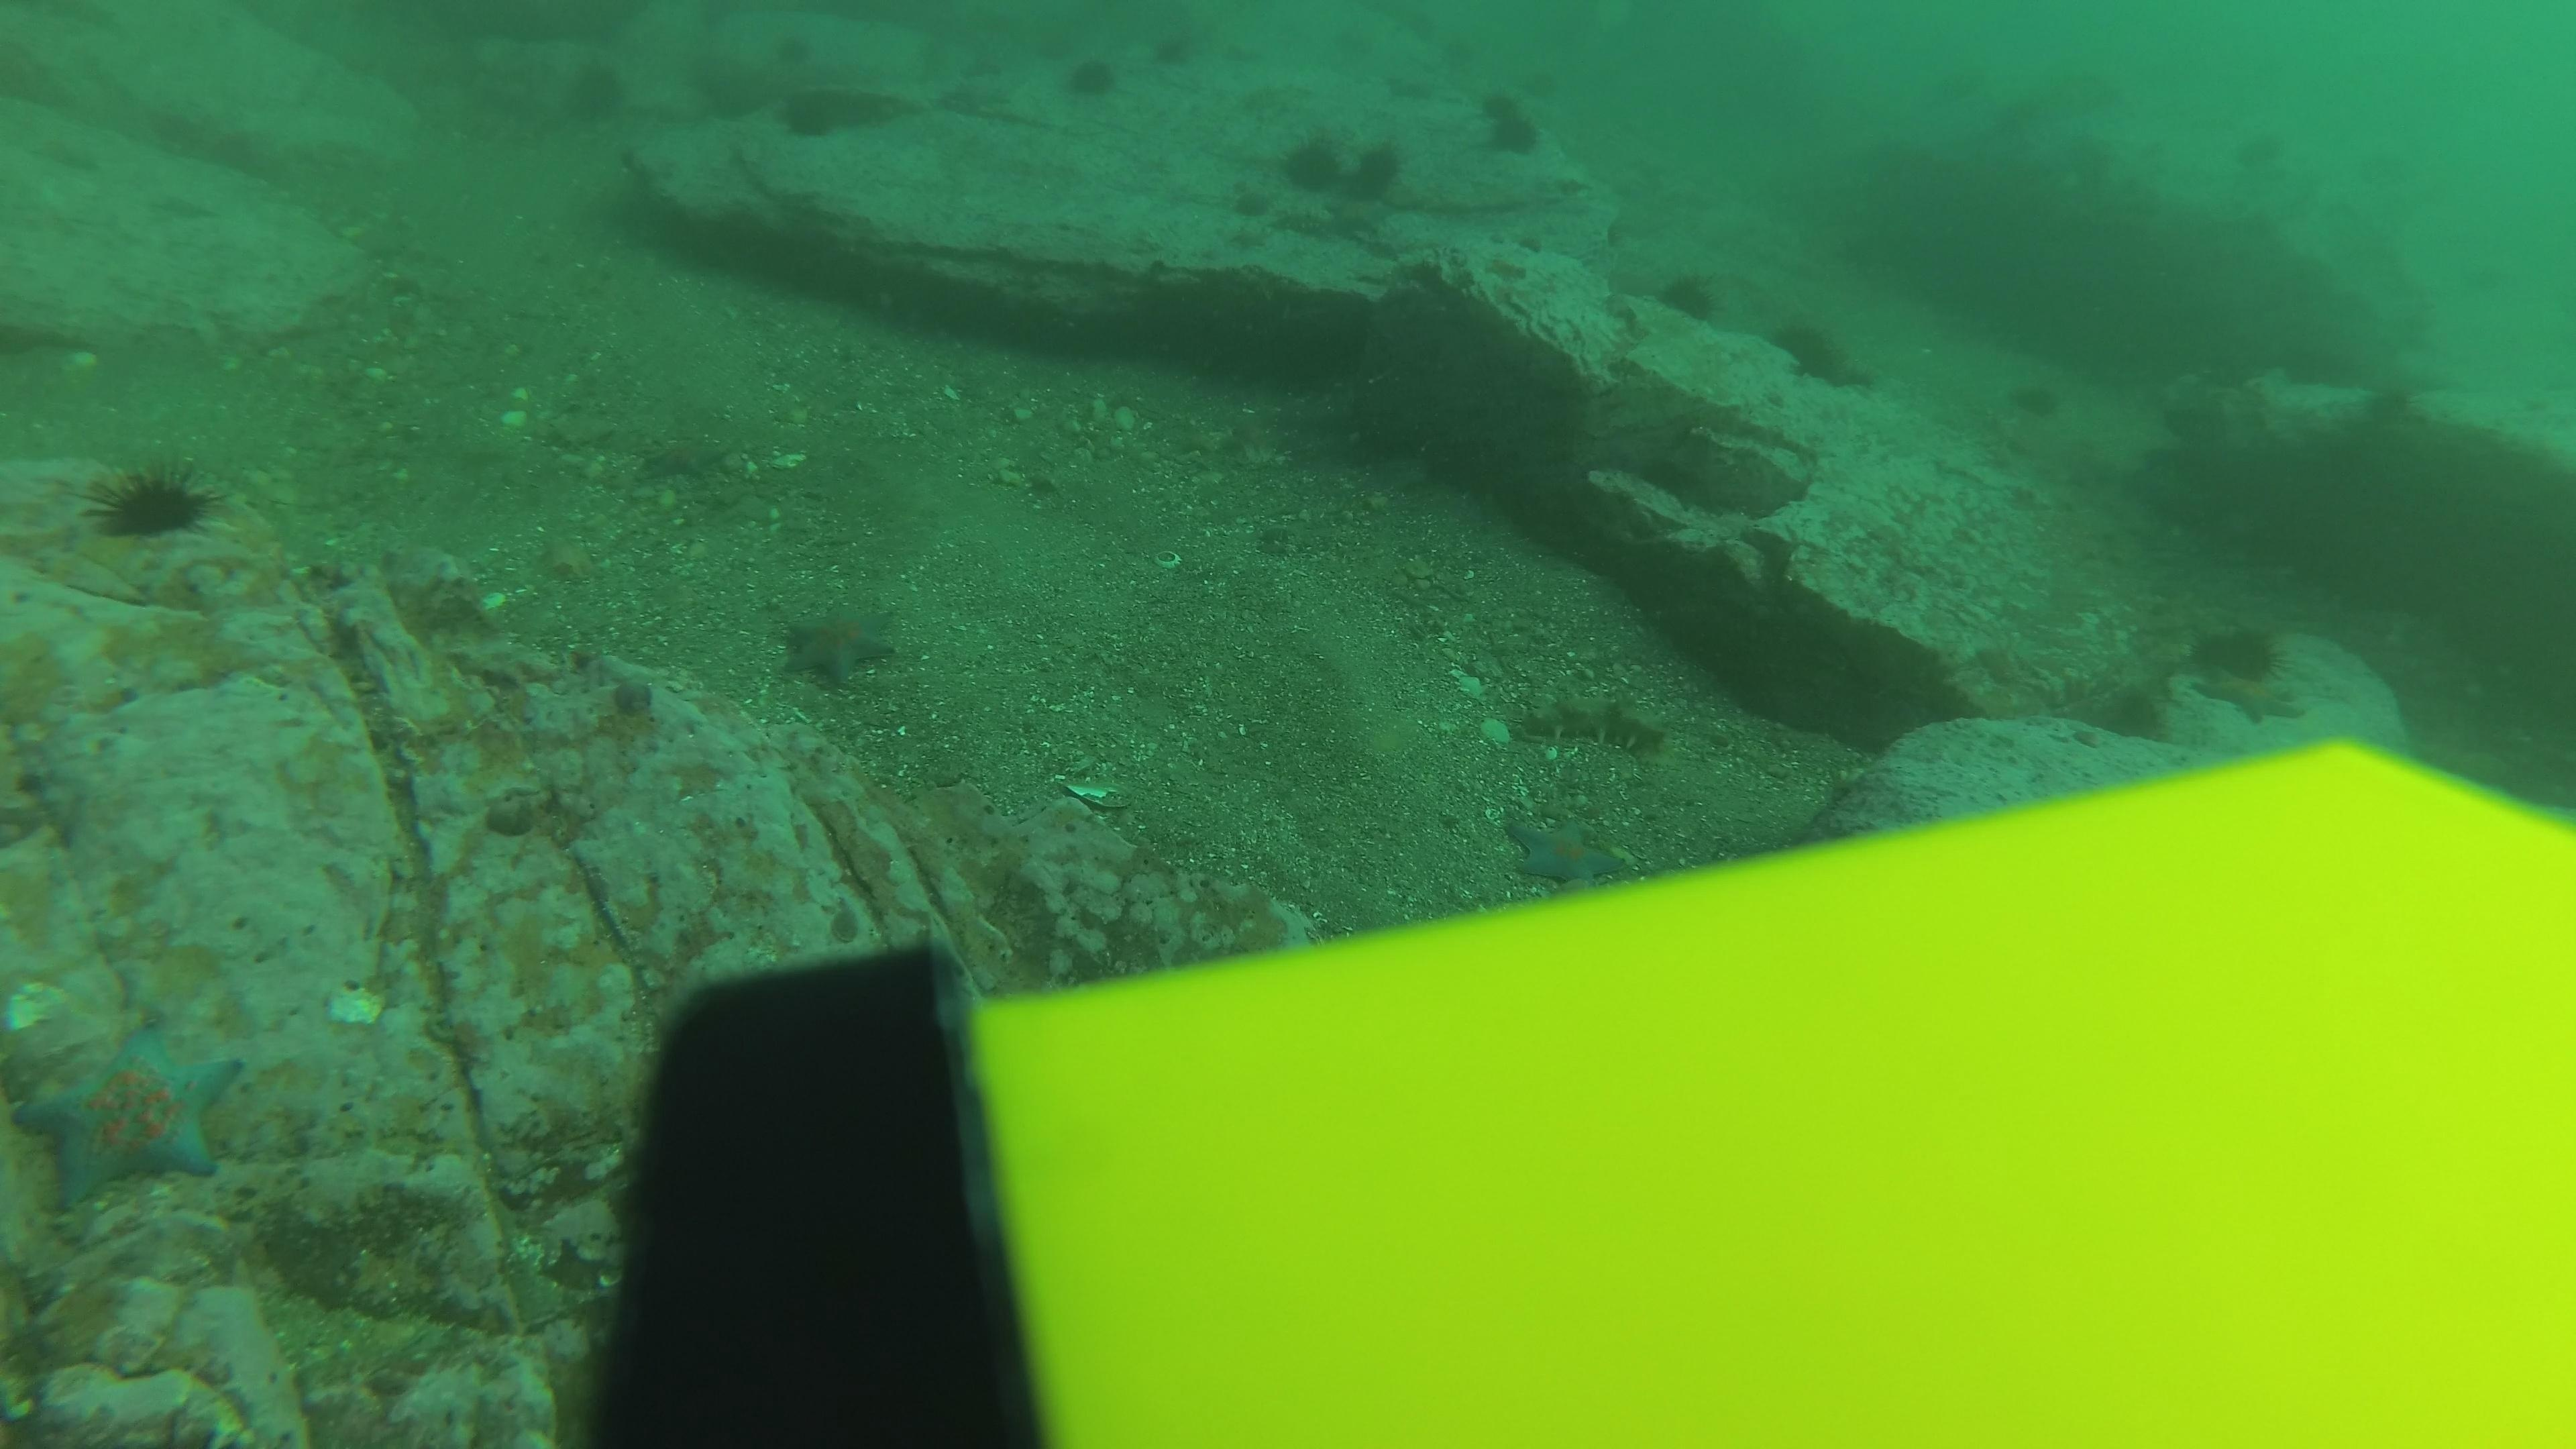echinus: (87, 458, 218, 547), (2185, 614, 2291, 690), (1769, 313, 1865, 391), (559, 57, 633, 129), (773, 81, 855, 143), (1352, 134, 1415, 203), (1276, 124, 1338, 193), (1656, 265, 1723, 326), (1060, 50, 1123, 104), (2010, 379, 2063, 421), (2061, 138, 2116, 179), (2238, 127, 2291, 168), (1472, 87, 1520, 126), (1148, 28, 1196, 67), (1435, 30, 1483, 69), (1495, 120, 1543, 157), (771, 30, 819, 67), (1514, 64, 1562, 101)
holothurian: (1522, 690, 1668, 761)
starfish: (12, 1019, 249, 1208), (775, 598, 902, 688), (1502, 809, 1640, 890), (2185, 665, 2309, 729), (633, 428, 734, 487)
